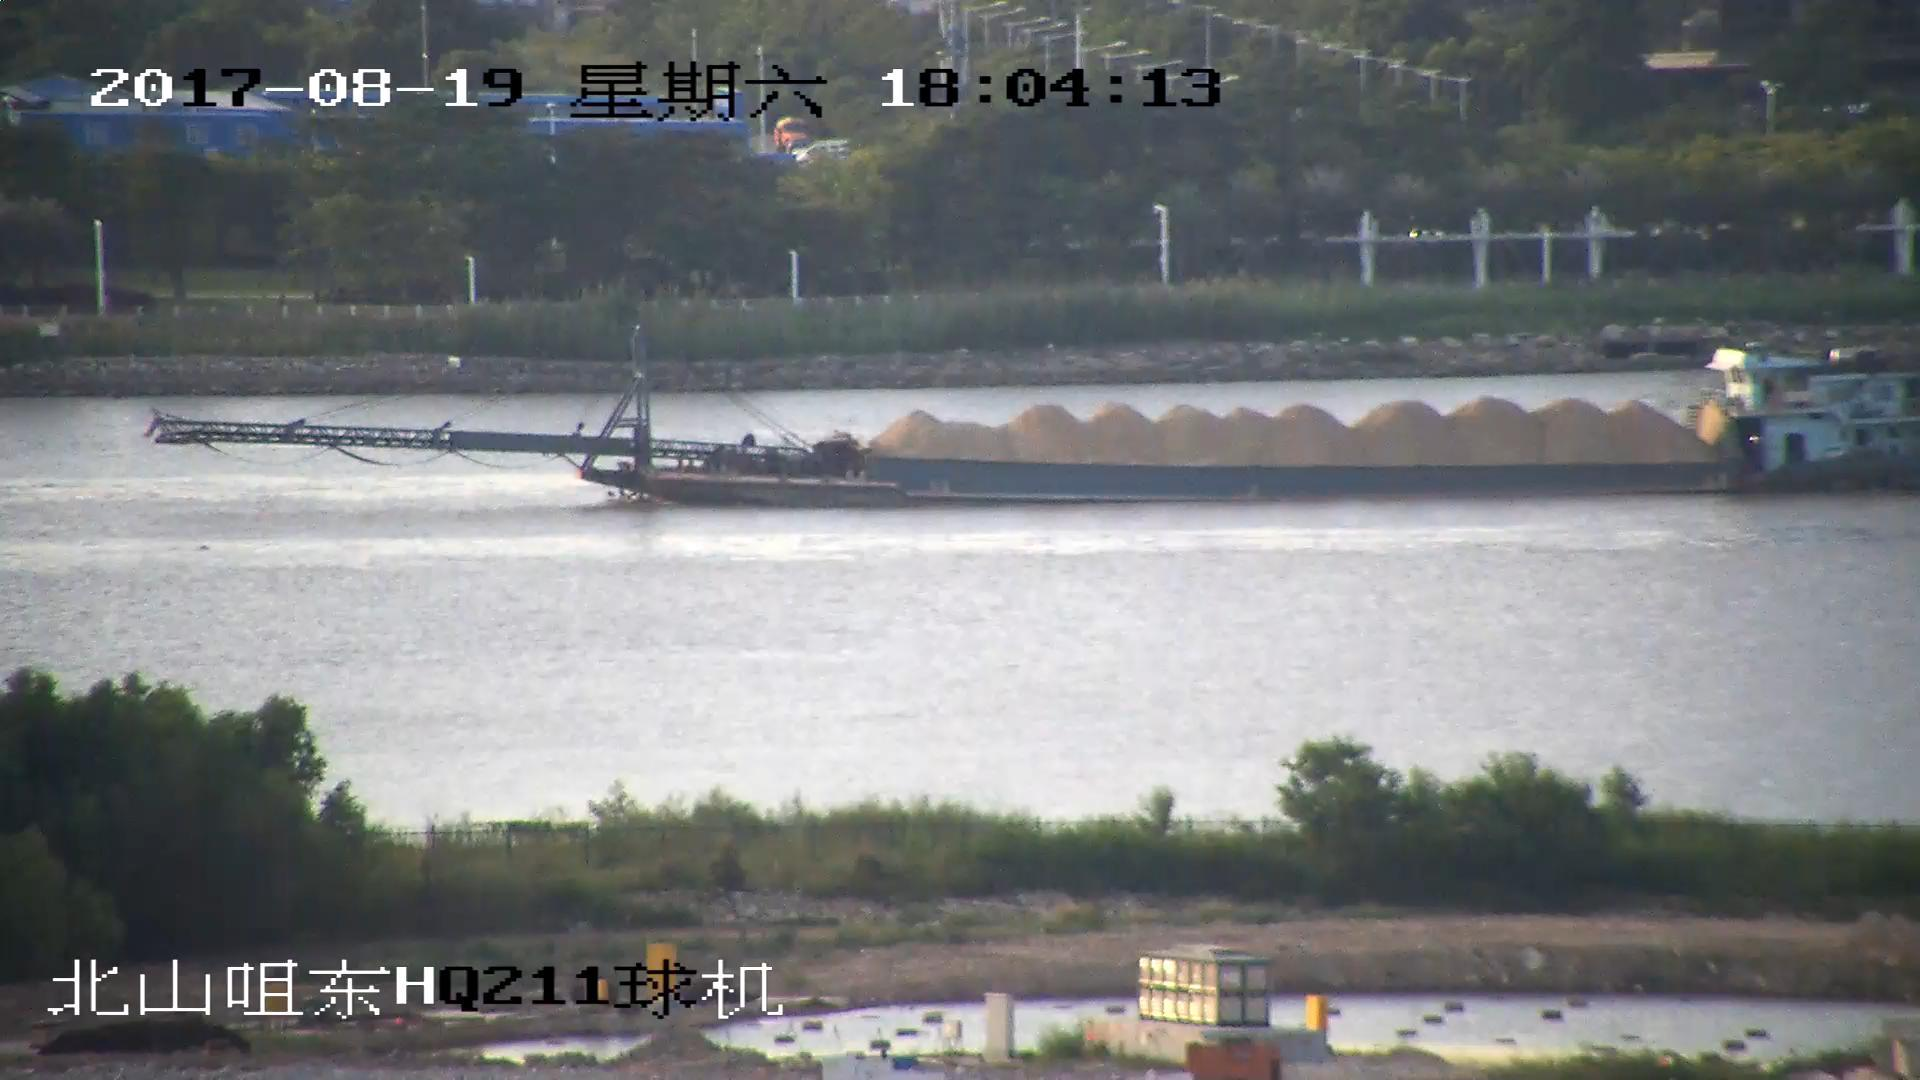Ship: (153, 332, 1920, 510)
